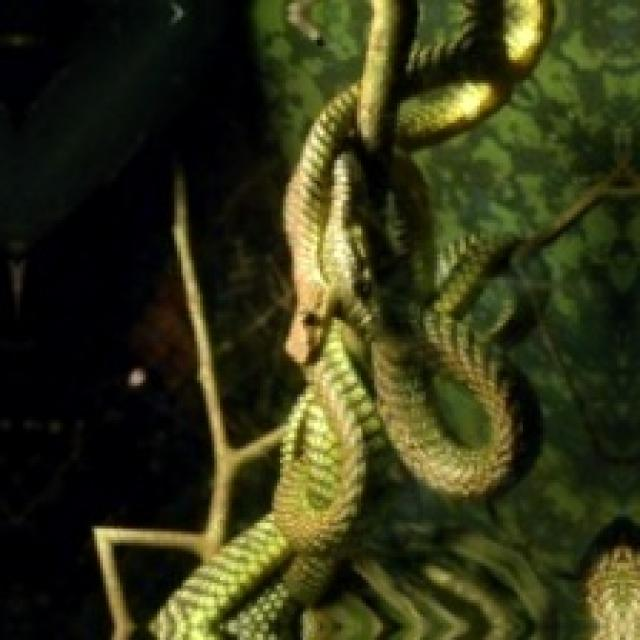paradise tree snake: (151, 0, 637, 637), (151, 0, 594, 637)
